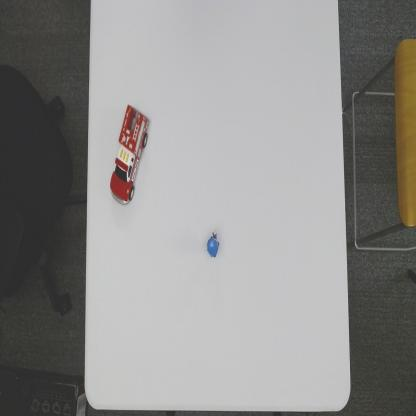Firetruck: (109, 102, 150, 209)
